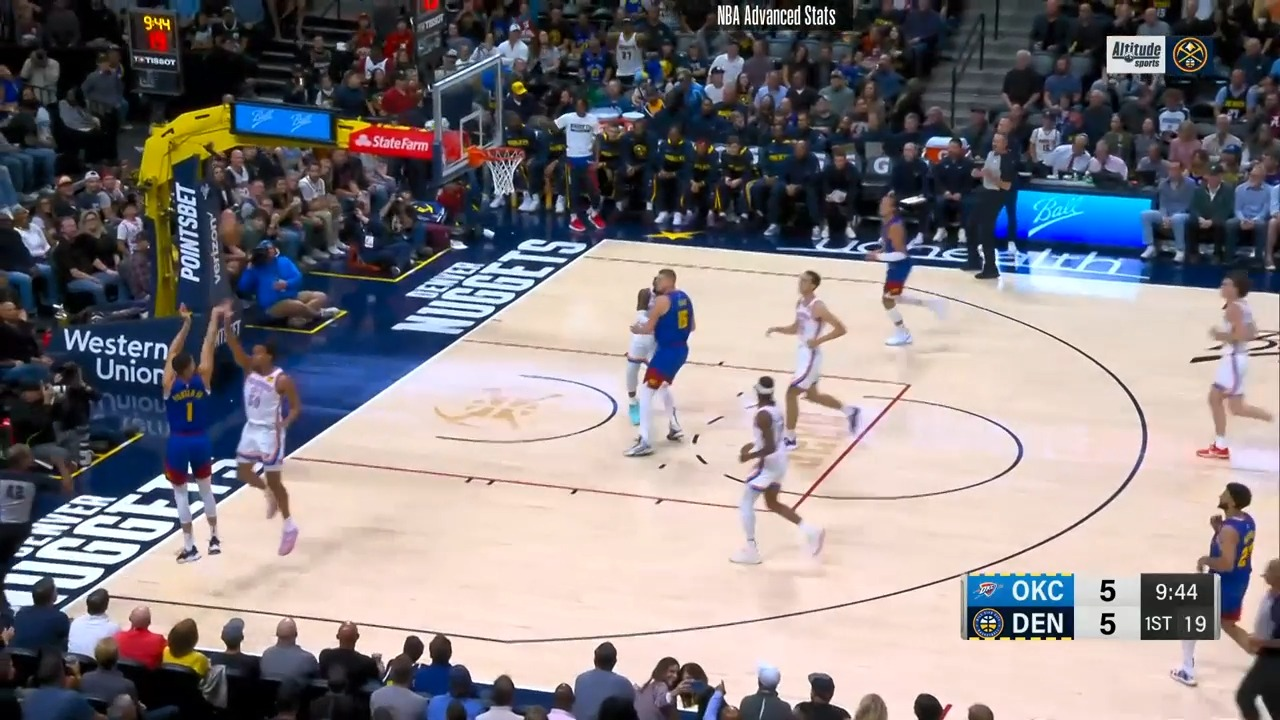net: (468, 140, 530, 198)
player: (216, 314, 305, 558), (720, 376, 822, 572), (155, 305, 227, 569), (1171, 483, 1257, 692), (761, 272, 859, 446), (1196, 271, 1280, 470), (617, 268, 698, 462), (863, 192, 924, 353), (625, 271, 663, 442)
referee: (1230, 549, 1280, 720)
